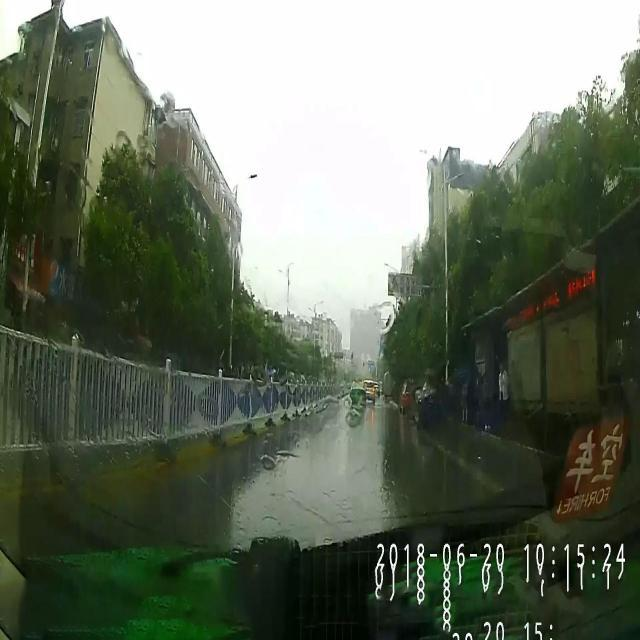car: (414, 375, 446, 426), (400, 378, 418, 414), (350, 379, 366, 408), (364, 379, 374, 406)
